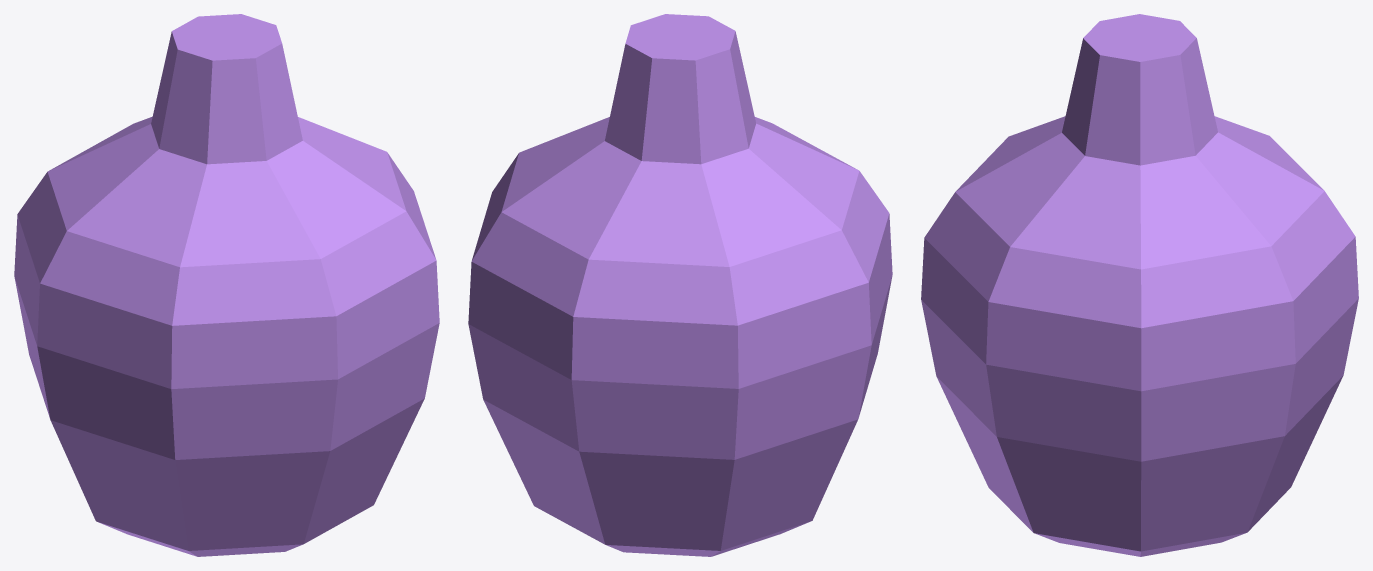
File: Whisky3.fbx
3 renders of one model, left to right at view 1: azimuth 30°, elevation 25°; view 2: azimuth 150°, elevation 25°; view 3: azimuth 270°, elevation 25°, orthographic.
Visible parts, largest first — view 1: Whisky3; view 2: Whisky3; view 3: Whisky3.
Boxes of the visible parts, x1,y1,x2,y2 form: Whisky3: (14,14,439,556); Whisky3: (468,14,892,556); Whisky3: (921,14,1358,556).
Size of the model in its own units: 0.0941 by 0.1116 by 0.0941.
1 material, 1 textured.
